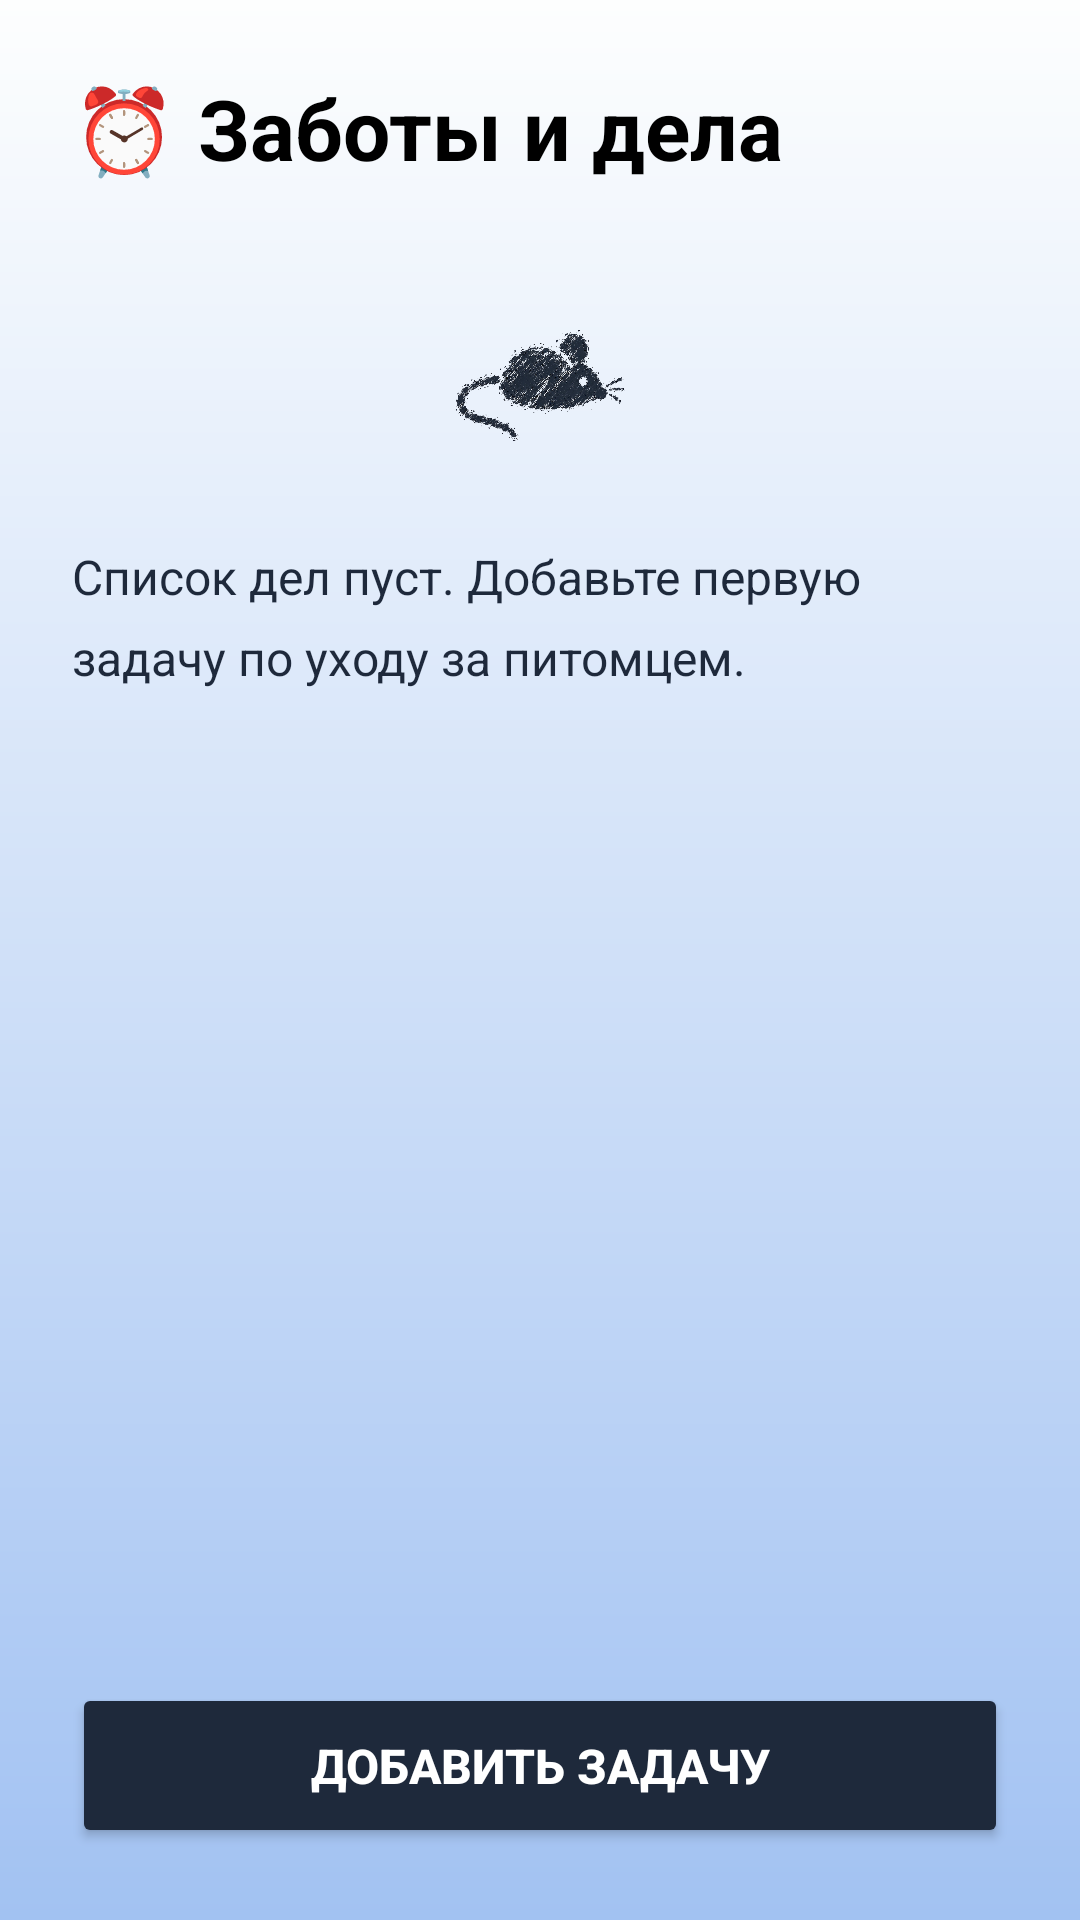

Icons on this 1080w x 1920h Android screen, each with its box as (x1, y1, x2, y2):
mysh: (456, 330, 625, 441)
